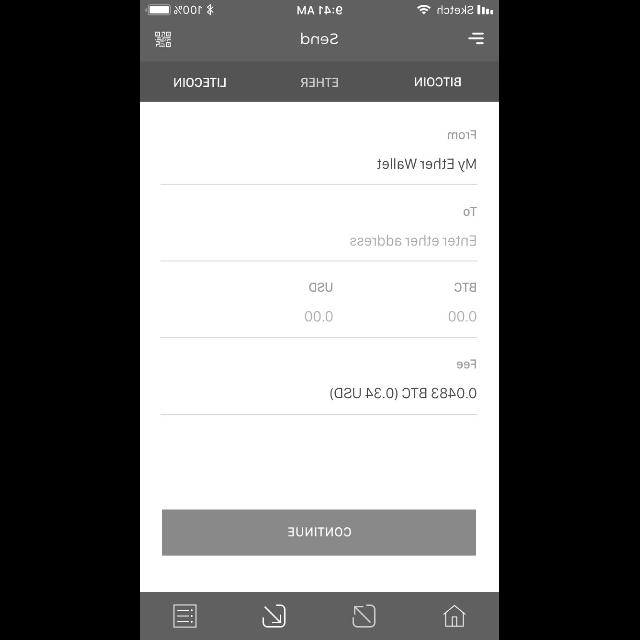icon: (262, 604, 286, 628), (352, 604, 376, 628), (174, 604, 196, 628), (444, 606, 466, 626), (155, 32, 171, 48), (470, 34, 484, 44)
input: (160, 236, 478, 262), (162, 159, 478, 185)
text: (331, 388, 477, 400), (174, 78, 226, 88), (415, 77, 461, 86), (301, 78, 339, 88), (302, 34, 338, 44), (449, 310, 477, 322), (448, 130, 477, 140), (306, 312, 332, 322), (309, 282, 333, 292), (455, 282, 477, 292), (457, 359, 477, 368), (463, 208, 477, 216)
textbutton: (162, 510, 476, 556)
uppertaskbar: (141, 1, 499, 17)
